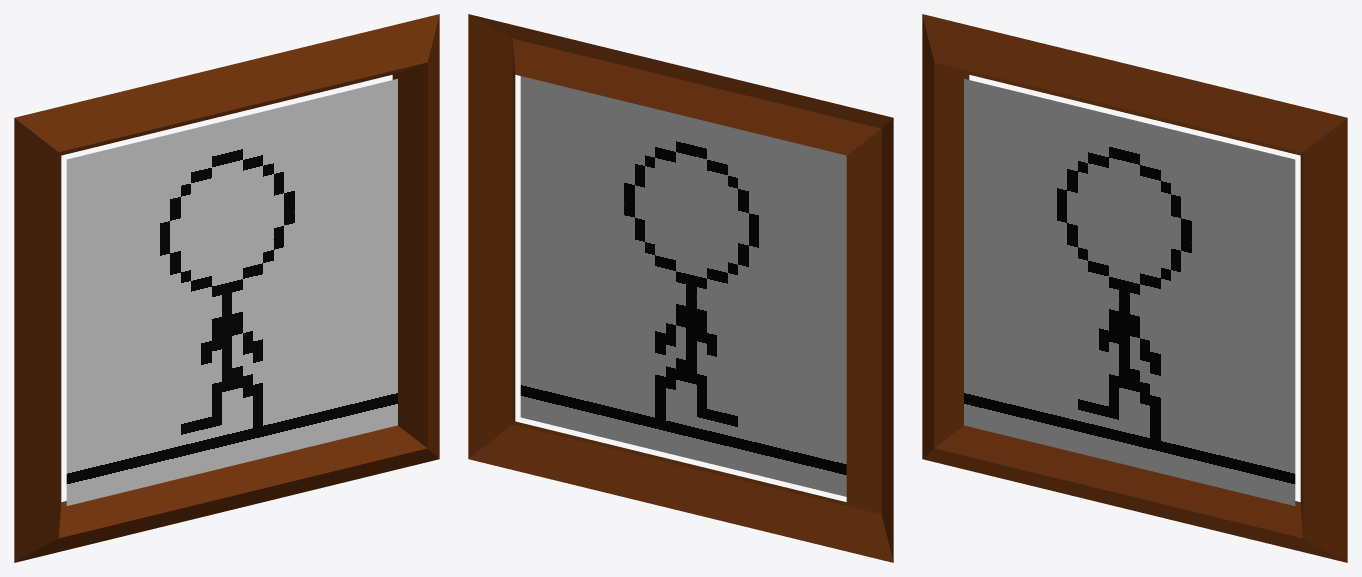
File: walkPainting4.glb
3 views of the same model, side by side, from view 1: azimuth 30°, elevation 25°; view 2: azimuth 150°, elevation 25°; view 3: azimuth 330°, elevation 25° (orthographic).
Visible parts, largest first — view 1: Canvas.001, Frame.004; view 2: Canvas.001, Frame.004; view 3: Canvas.001, Frame.004.
Boxes of the visible parts, left/top/right/bottom form: Canvas.001: left=66, top=79, right=397, bottom=505; Frame.004: left=14, top=14, right=439, bottom=562; Canvas.001: left=520, top=76, right=846, bottom=496; Frame.004: left=468, top=14, right=893, bottom=562; Canvas.001: left=964, top=79, right=1295, bottom=505; Frame.004: left=922, top=14, right=1347, bottom=562.
Bounding box in the file's own units: 1.28 × 1.28 × 0.0849.
2 materials, 1 textured.
